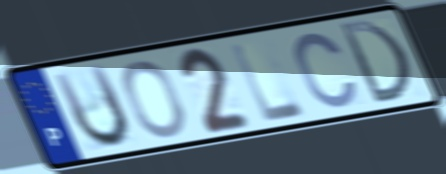2: (176, 45, 256, 138)
C: (292, 29, 361, 111)
D: (335, 18, 416, 107)
L: (227, 39, 310, 126)
O: (119, 58, 189, 140)
U: (49, 61, 133, 152)
